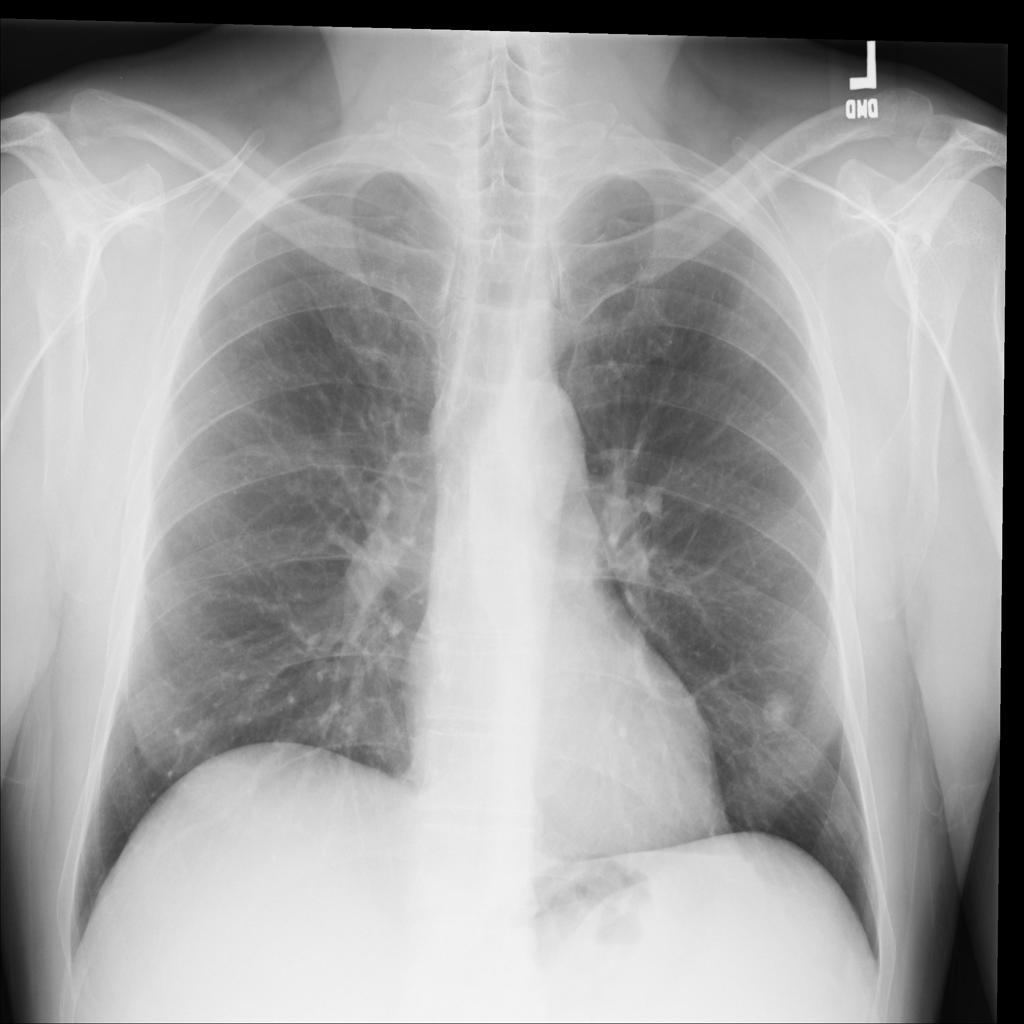nodule: (751, 670, 815, 749)
